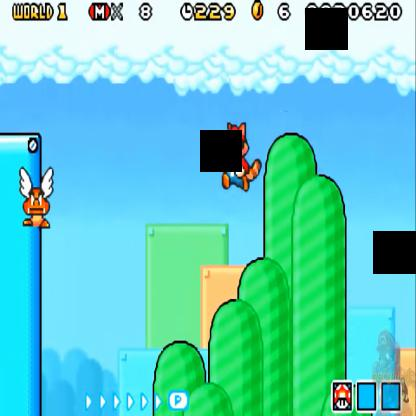Goomba: (21, 184, 51, 232)
Mario: (219, 117, 264, 195)
hongo: (332, 380, 354, 412)
moneda: (249, 0, 265, 24)
